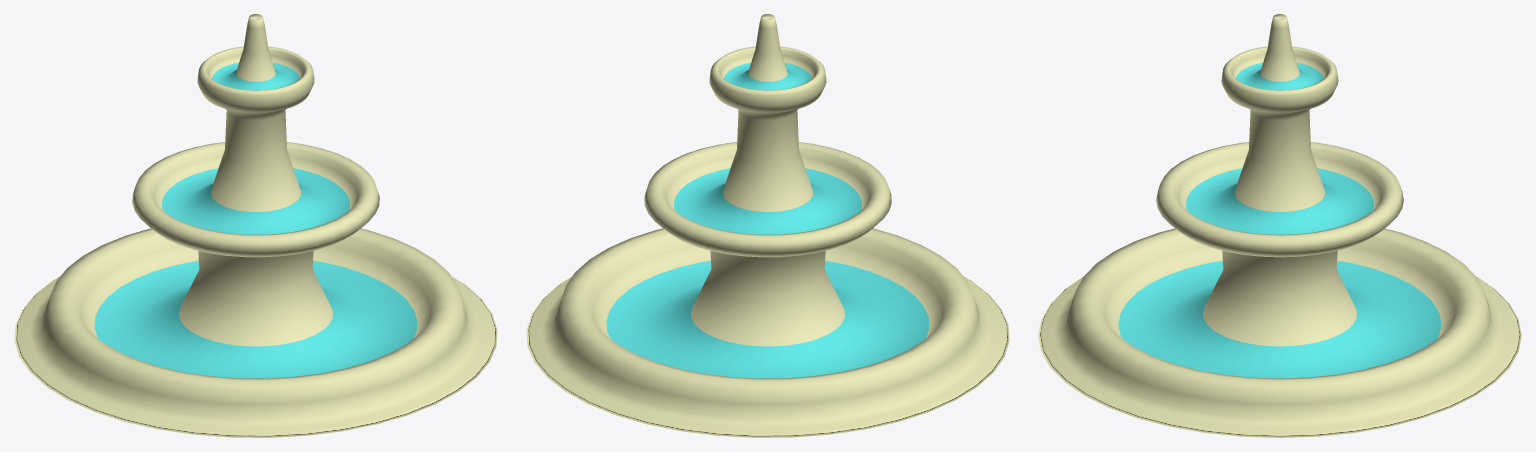
Rendered from garden&Fountain.fbx.
3 renders of one model, left to right at view 1: azimuth 30°, elevation 25°; view 2: azimuth 150°, elevation 25°; view 3: azimuth 270°, elevation 25°, orthographic.
Parts seen in each view (by area): view 1: pCylinder1; view 2: pCylinder1; view 3: pCylinder1.
Boxes of the visible parts, left/top/right/bottom form: pCylinder1: left=14, top=14, right=497, bottom=437; pCylinder1: left=526, top=14, right=1009, bottom=437; pCylinder1: left=1038, top=14, right=1521, bottom=437.
Size of what is drawn, in the model's own units: 1.94 by 1.43 by 1.94.
